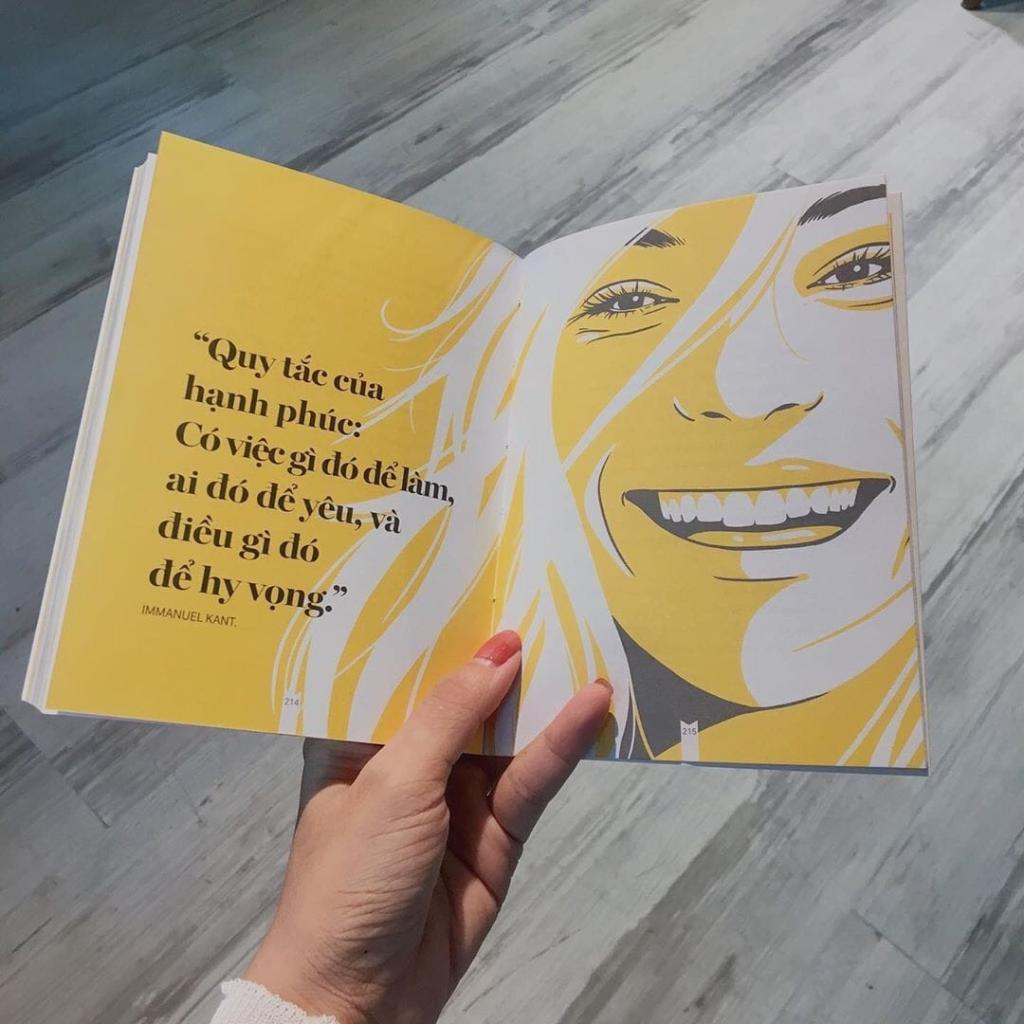text: (183, 324, 284, 385), (178, 368, 276, 427), (267, 388, 367, 444), (246, 579, 354, 625), (153, 504, 239, 553), (295, 487, 366, 535), (397, 461, 458, 512), (223, 427, 289, 472), (327, 363, 391, 407), (192, 561, 248, 610), (271, 352, 336, 392), (144, 556, 201, 596), (274, 526, 326, 569), (170, 415, 224, 456), (203, 466, 255, 508), (318, 444, 364, 486), (252, 478, 302, 515), (235, 527, 278, 566), (359, 454, 403, 492), (282, 444, 322, 482), (138, 602, 204, 625), (161, 467, 202, 499), (368, 506, 405, 538)
